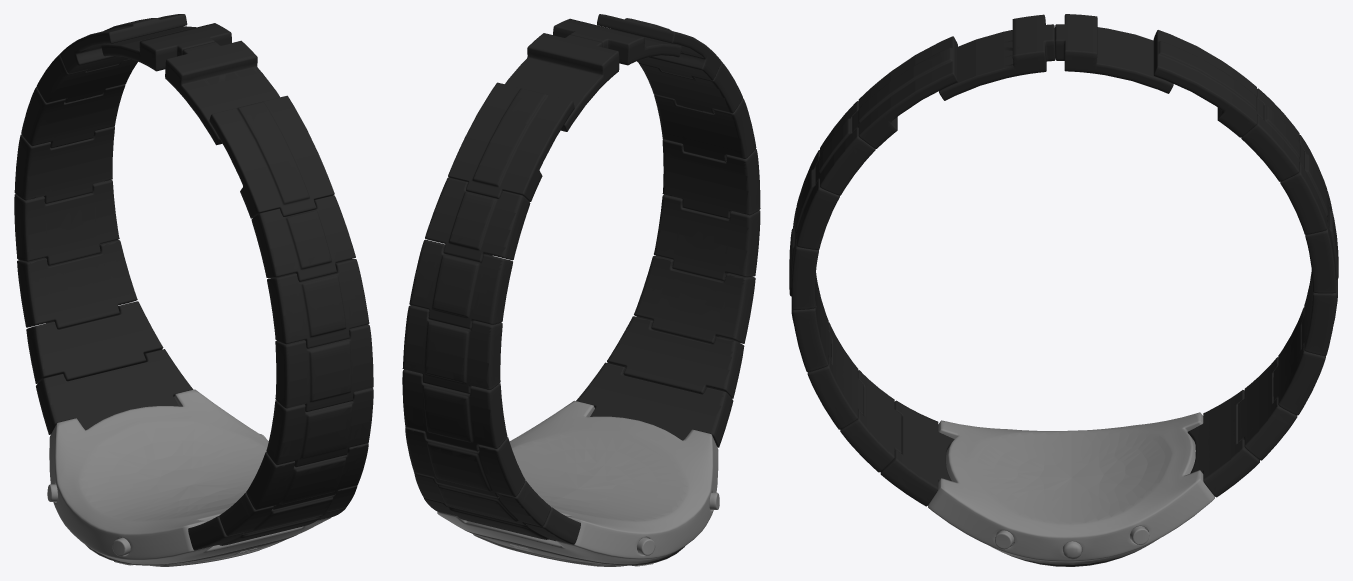
The model's file is watch1.glb.
3 renders of one model, left to right at view 1: azimuth 30°, elevation 25°; view 2: azimuth 150°, elevation 25°; view 3: azimuth 270°, elevation 25°, orthographic.
Parts seen in each view (by area): view 1: 11799_Watches_v1_L2.001; view 2: 11799_Watches_v1_L2.001; view 3: 11799_Watches_v1_L2.001.
Part boxes in pixels (x1,y1,x2,y2): 11799_Watches_v1_L2.001: (14,14,373,566); 11799_Watches_v1_L2.001: (402,14,760,566); 11799_Watches_v1_L2.001: (789,14,1338,566).
Bounding box in the file's own units: 1.17 × 2.45 × 2.48.
6 materials, 3 textured.
